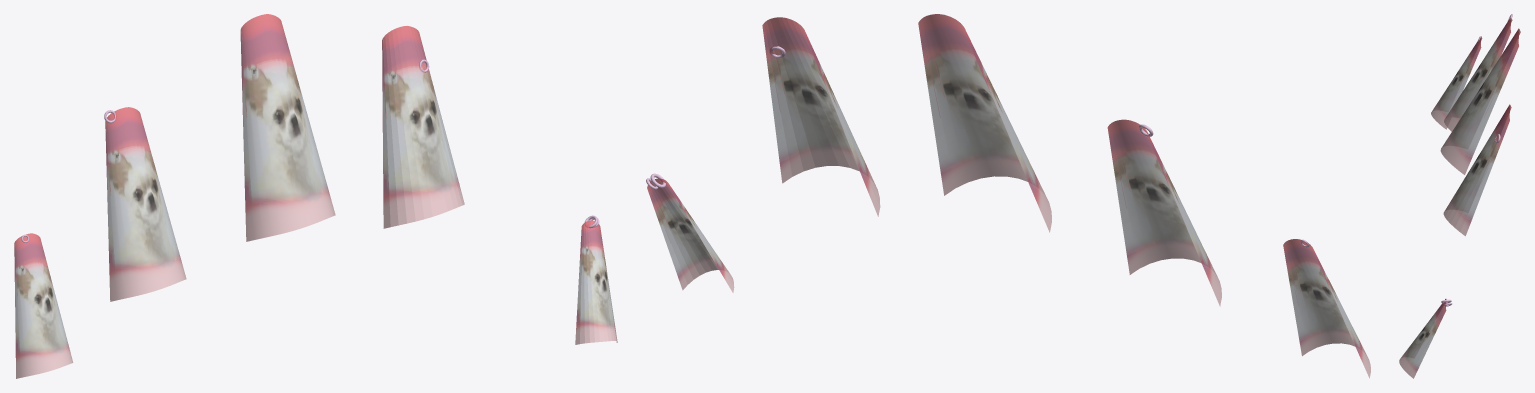
3 views of the same model, side by side, from view 1: azimuth 30°, elevation 25°; view 2: azimuth 150°, elevation 25°; view 3: azimuth 270°, elevation 25° (orthographic). The views are drawn at different scales.
Visible parts, largest first — view 1: Cylinder.001, Cylinder.002, Cylinder.003, Cylinder.004, Cylinder.005; view 2: Cylinder.001, Cylinder.002, Cylinder.003, Cylinder.004, Cylinder.005; view 3: Cylinder.001, Cylinder.002, Cylinder.003, Cylinder.004, Cylinder.005.
Part boxes in pixels (<box>): Cylinder.001: <box>240,14,335,241</box>; Cylinder.002: <box>382,26,464,228</box>; Cylinder.003: <box>105,107,186,301</box>; Cylinder.004: <box>14,233,73,378</box>; Cylinder.005: <box>575,220,617,344</box>; Cylinder.001: <box>918,14,1051,232</box>; Cylinder.002: <box>762,17,880,216</box>; Cylinder.003: <box>1107,119,1221,306</box>; Cylinder.004: <box>1283,239,1370,378</box>; Cylinder.005: <box>647,178,734,292</box>; Cylinder.001: <box>1440,28,1520,174</box>; Cylinder.002: <box>1443,104,1511,236</box>; Cylinder.003: <box>1444,17,1512,131</box>; Cylinder.004: <box>1431,36,1482,129</box>; Cylinder.005: <box>1399,299,1446,378</box>.
Bounding box in the file's own units: 5.91 × 3.34 × 1.48.
Materials: 2 (1 with a texture image).
